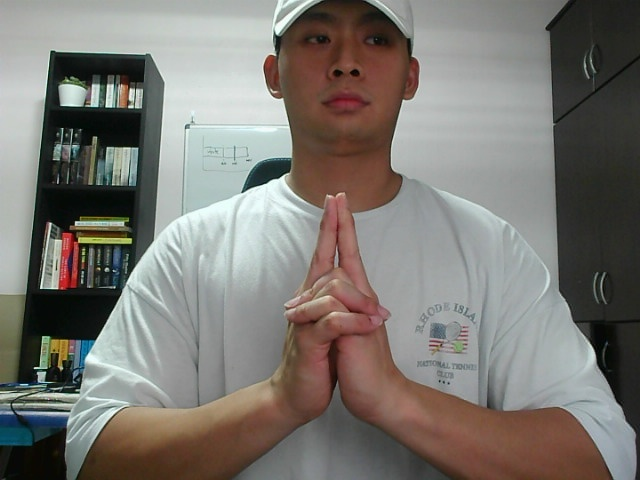Tiger: (252, 174, 425, 450)
